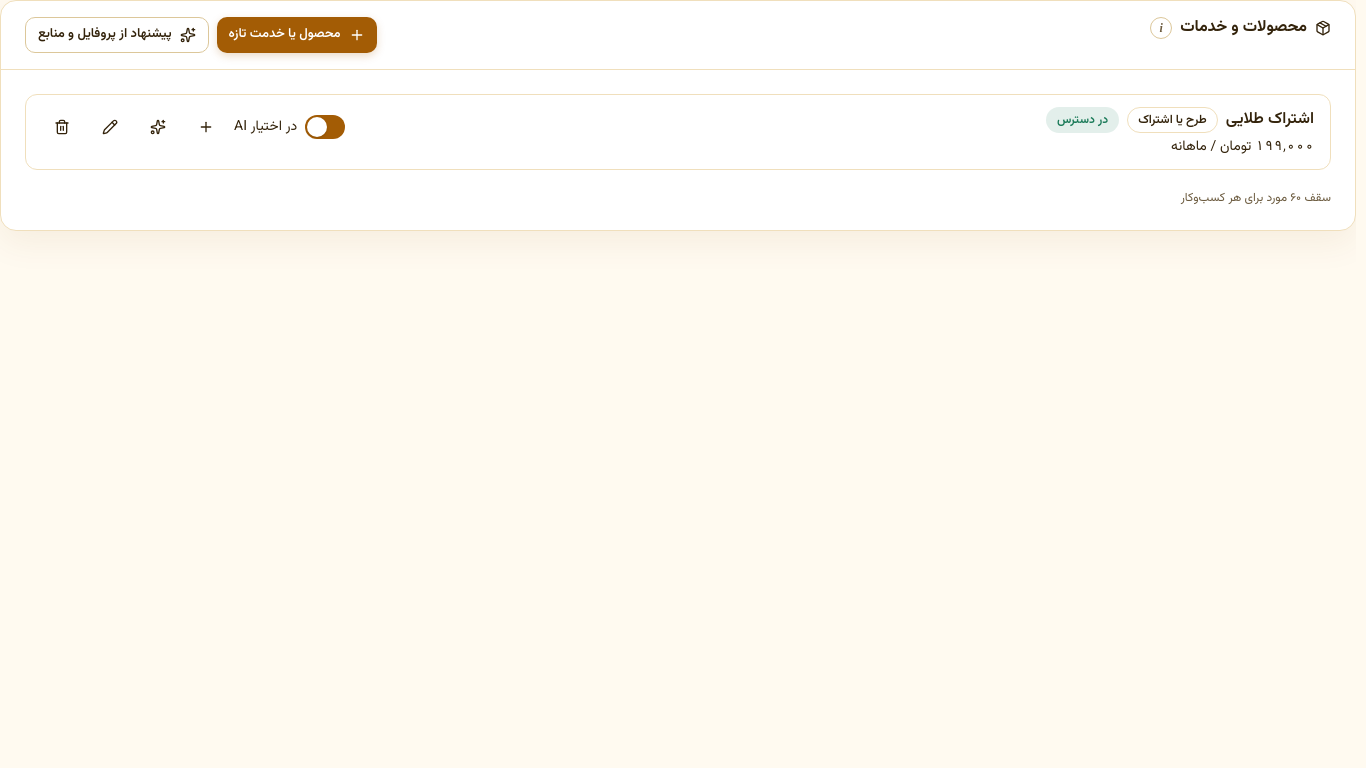
Test case: OfferingsPanel › refuses a form without a name and sends nothing
What coordinates should you click on to do the following:
click the button "محصول یا خدمت تازه"
I would click on:
 (297, 35)
Its box is [217,17,377,53].
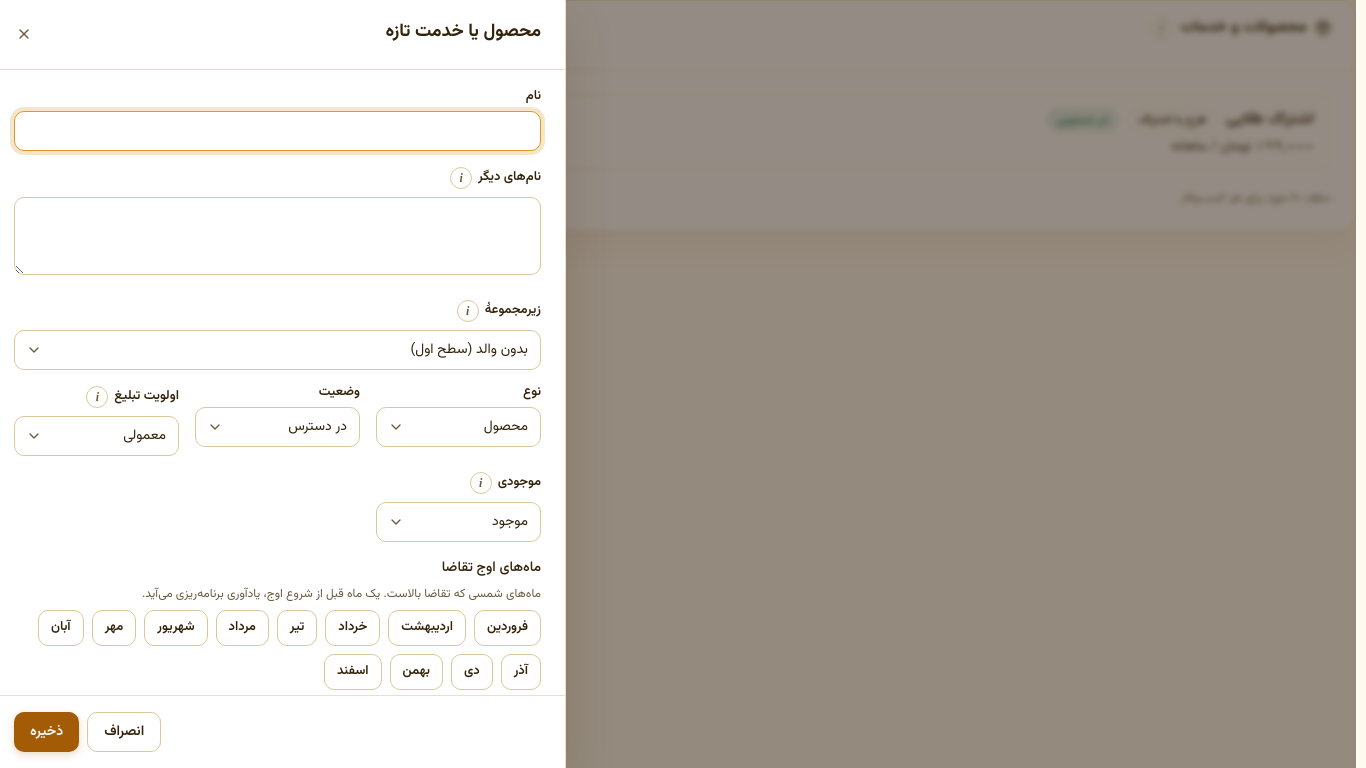
What coordinates should you click on to do the following:
click the button "ذخیره"
I would click on:
 (47, 732)
Its box is [14,712,79,752].
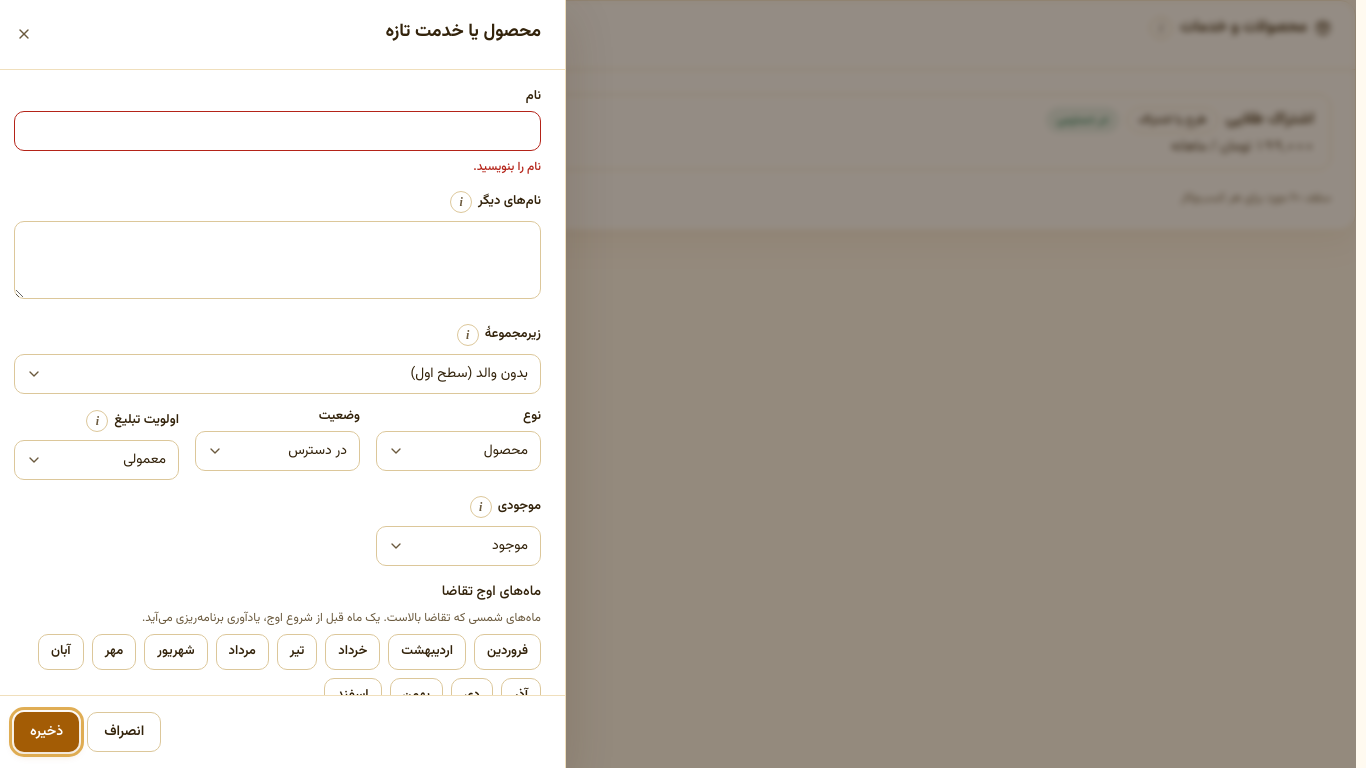
Check: the text "نام را بنویسید." is shown, box [473,158,541,176]
